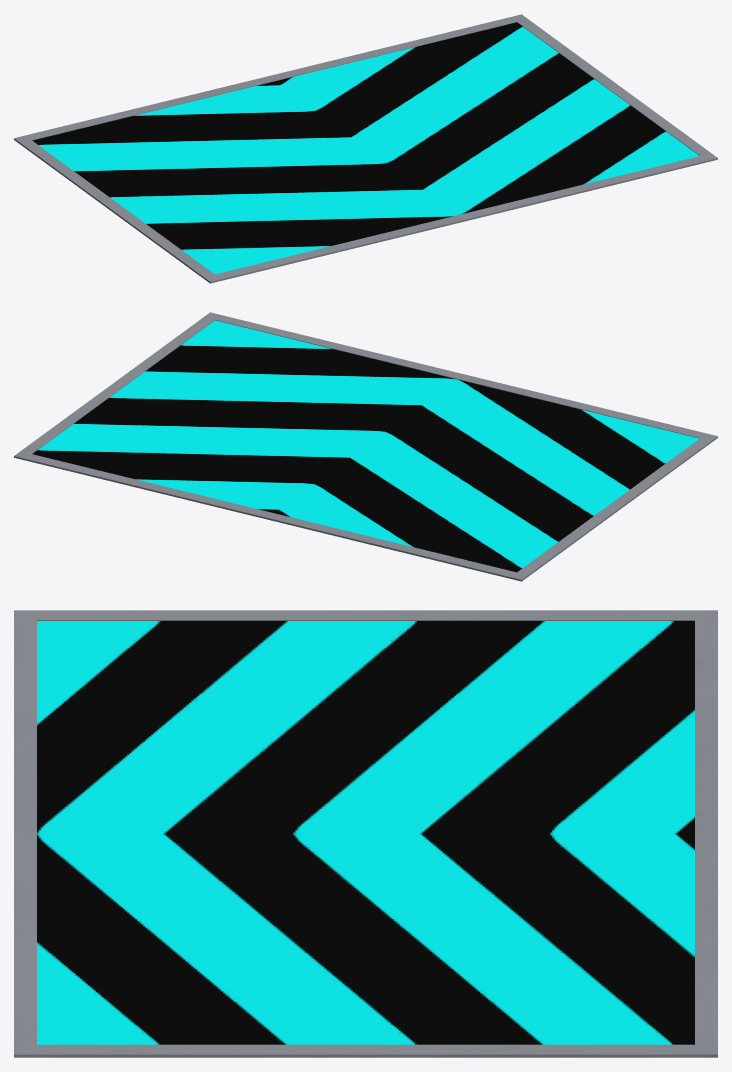
Rendered from FootBoart.fbx.
3 views of the same model, one above another, from view 1: azimuth 30°, elevation 25°; view 2: azimuth 150°, elevation 25°; view 3: azimuth 270°, elevation 25° (orthographic). The views are drawn at different scales.
Parts seen in each view (by area): view 1: SM_VA_FootBoart.mo; view 2: SM_VA_FootBoart.mo; view 3: SM_VA_FootBoart.mo.
Boxes of the visible parts, x1,y1,x2,y2 form: SM_VA_FootBoart.mo: (14, 14, 717, 283); SM_VA_FootBoart.mo: (14, 312, 717, 581); SM_VA_FootBoart.mo: (14, 610, 717, 1057).
Size of the model in its own units: 2.27 by 0.0075 by 1.52.
